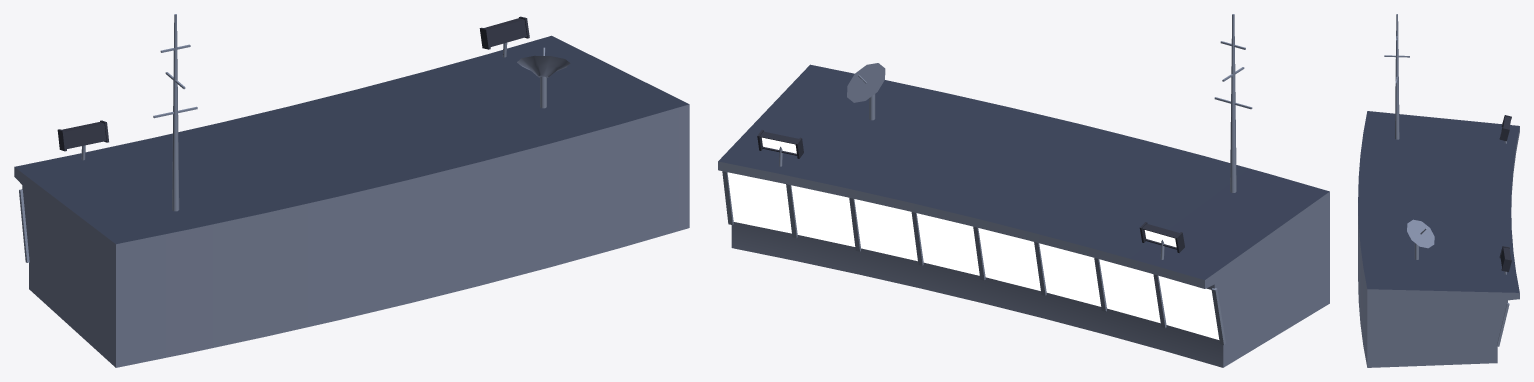
The model's file is roof_host_booth.glb.
The picture shows the model from 3 angles, left to right: view 1: azimuth 30°, elevation 25°; view 2: azimuth 150°, elevation 25°; view 3: azimuth 270°, elevation 25°; orthographic projection. The views are drawn at different scales.
Visible parts, largest first — view 1: roof_host_booth; view 2: roof_host_booth; view 3: roof_host_booth.
Part boxes in pixels (x1,y1,x2,y2): roof_host_booth: (14,14,689,367); roof_host_booth: (718,14,1329,367); roof_host_booth: (1358,14,1519,367).
Size of the model in its own units: 24.51 by 12.9 by 9.4.
